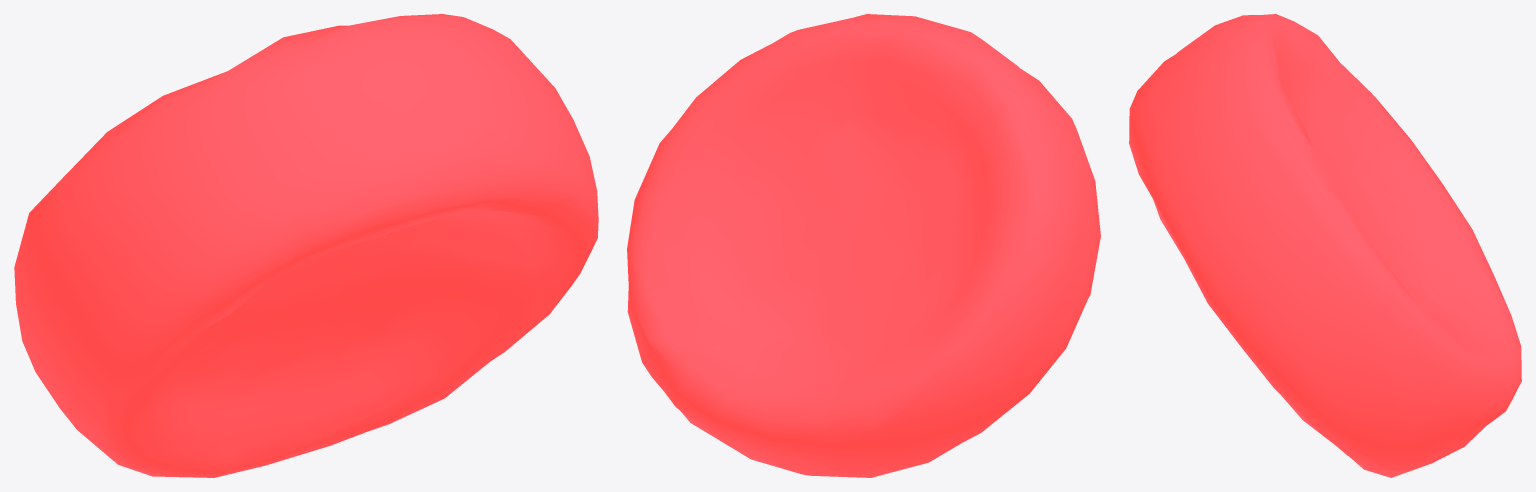
Rendered from red blood cells2.fbx.
3 views of the same model, side by side, from view 1: azimuth 30°, elevation 25°; view 2: azimuth 150°, elevation 25°; view 3: azimuth 270°, elevation 25° (orthographic). The views are drawn at different scales.
Parts seen in each view (by area): view 1: Cylinder.006; view 2: Cylinder.006; view 3: Cylinder.006.
Part boxes in pixels (x1=…): Cylinder.006: x1=14, y1=14, x2=598, y2=477; Cylinder.006: x1=627, y1=14, x2=1100, y2=477; Cylinder.006: x1=1129, y1=14, x2=1521, y2=477.
Bounding box in the file's own units: 65.61 × 60.6 × 53.76.
